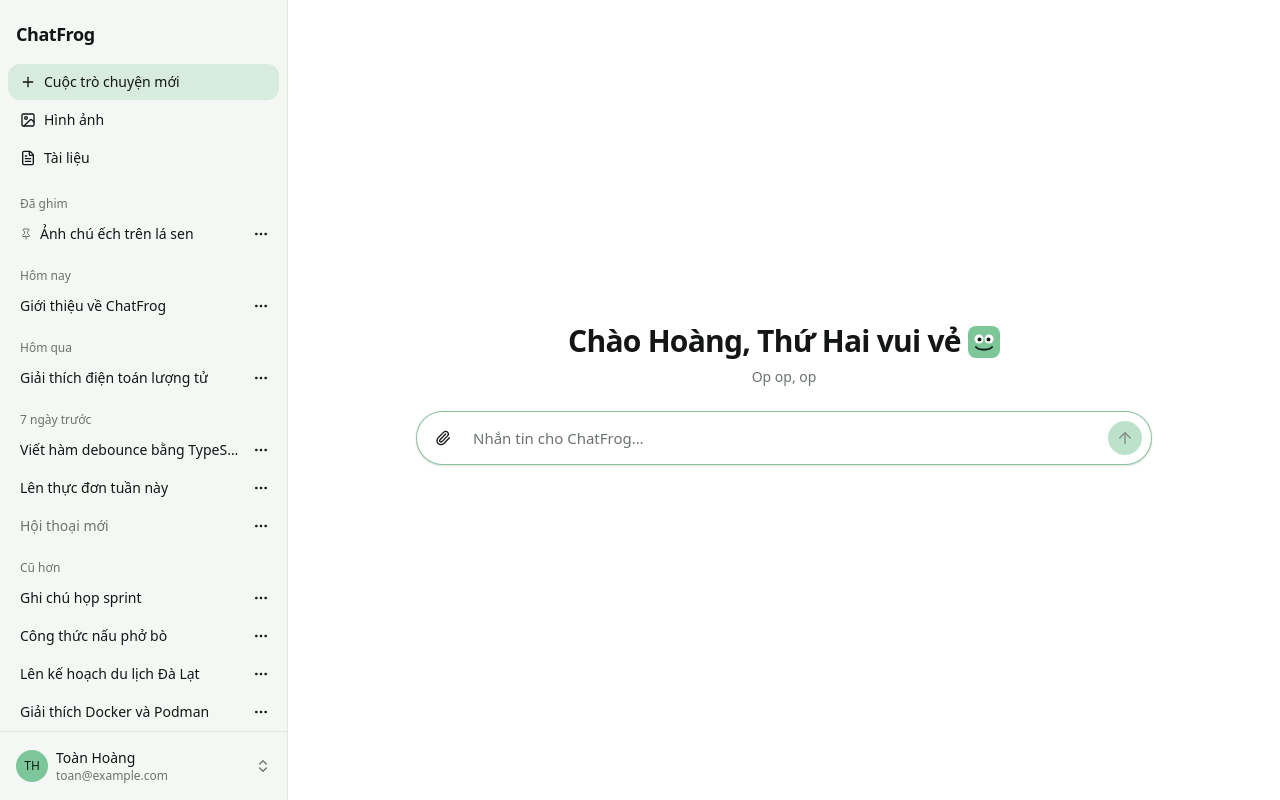
Test: sidebar › renames a conversation inline and deletes it after confirmation
Expected: the link "Giới thiệu về ChatFrog" is shown, [20,296,166,315]
Step 1. Click the button named "Tuỳ chọn hội thoại: Giới thiệu về ChatFrog" → click(261, 306), box [247,292,275,320]
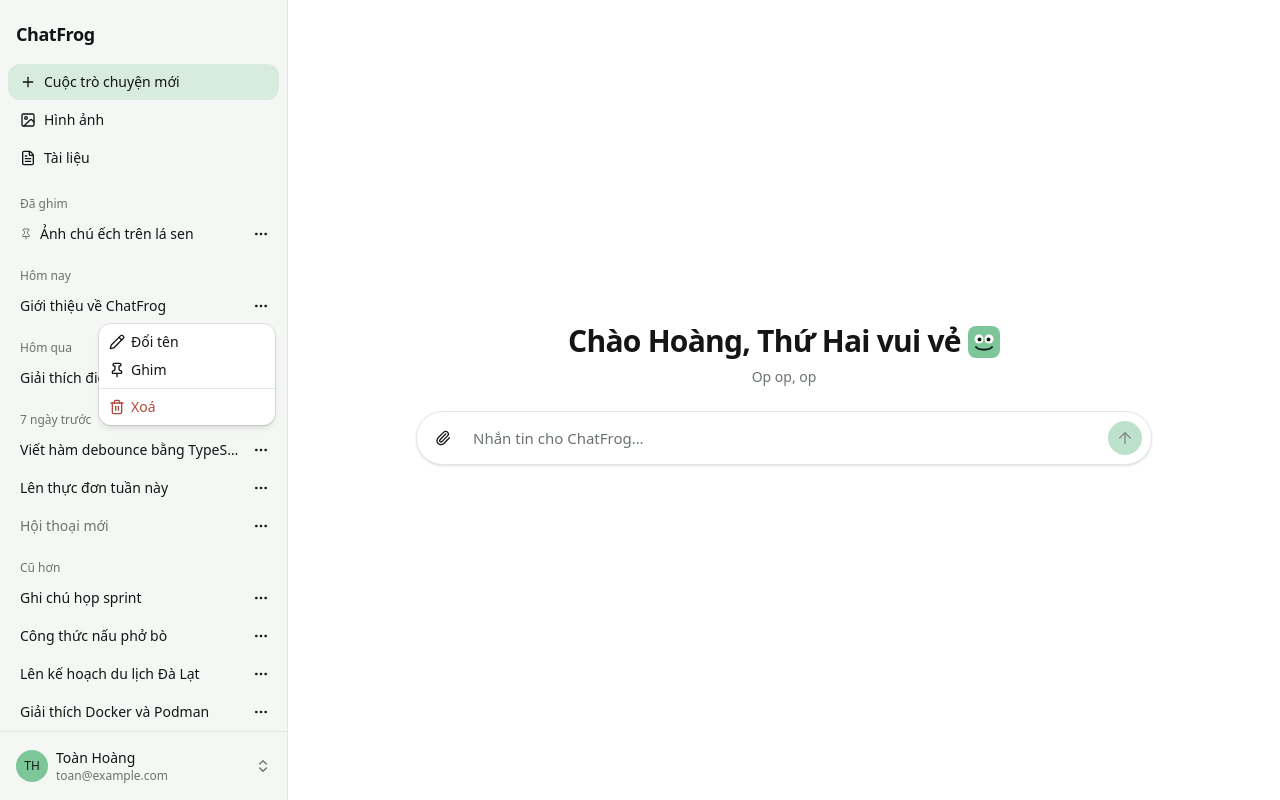
Step 2. Click the menu item "Đổi tên" → click(144, 342), box [109,332,178,351]
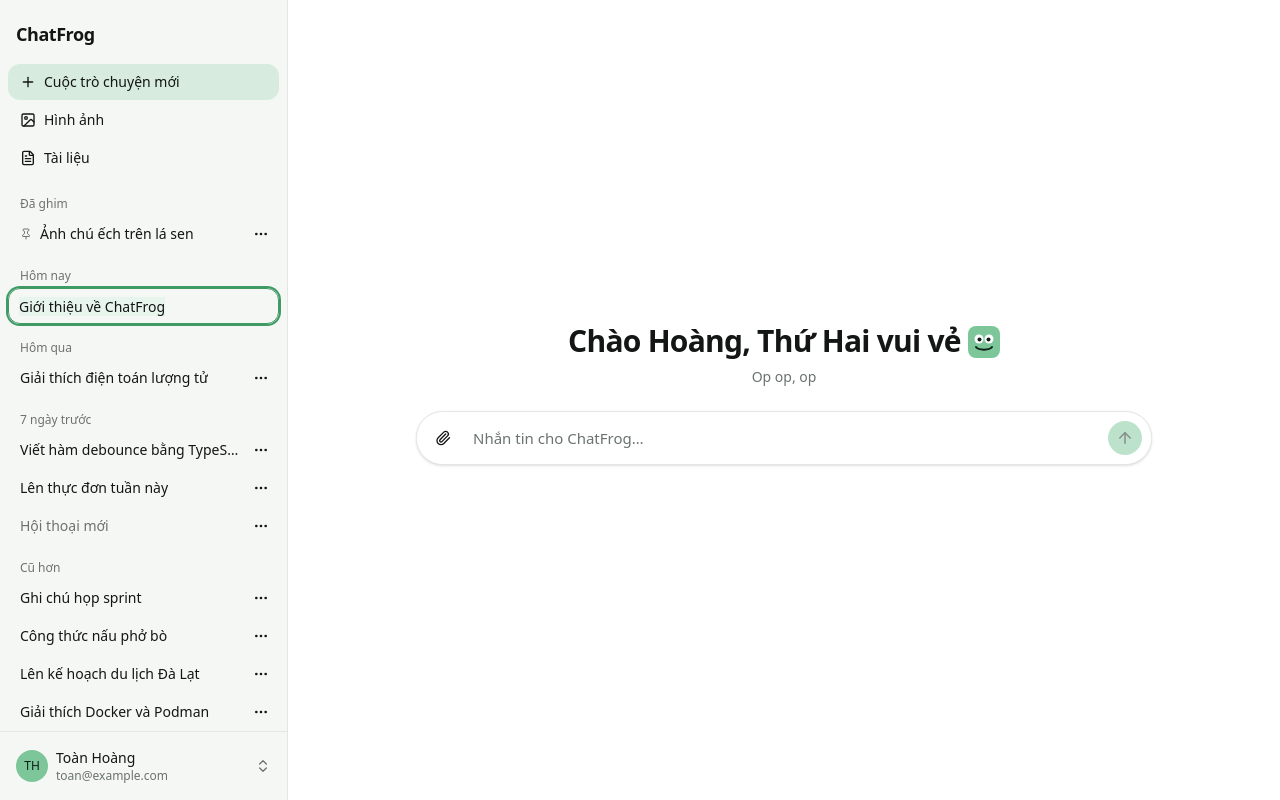
Step 3. Replace the text in the field named "Tên hội thoại" with "Tên mới" → (144, 306), box [8,288,279,324]
Then press Enter
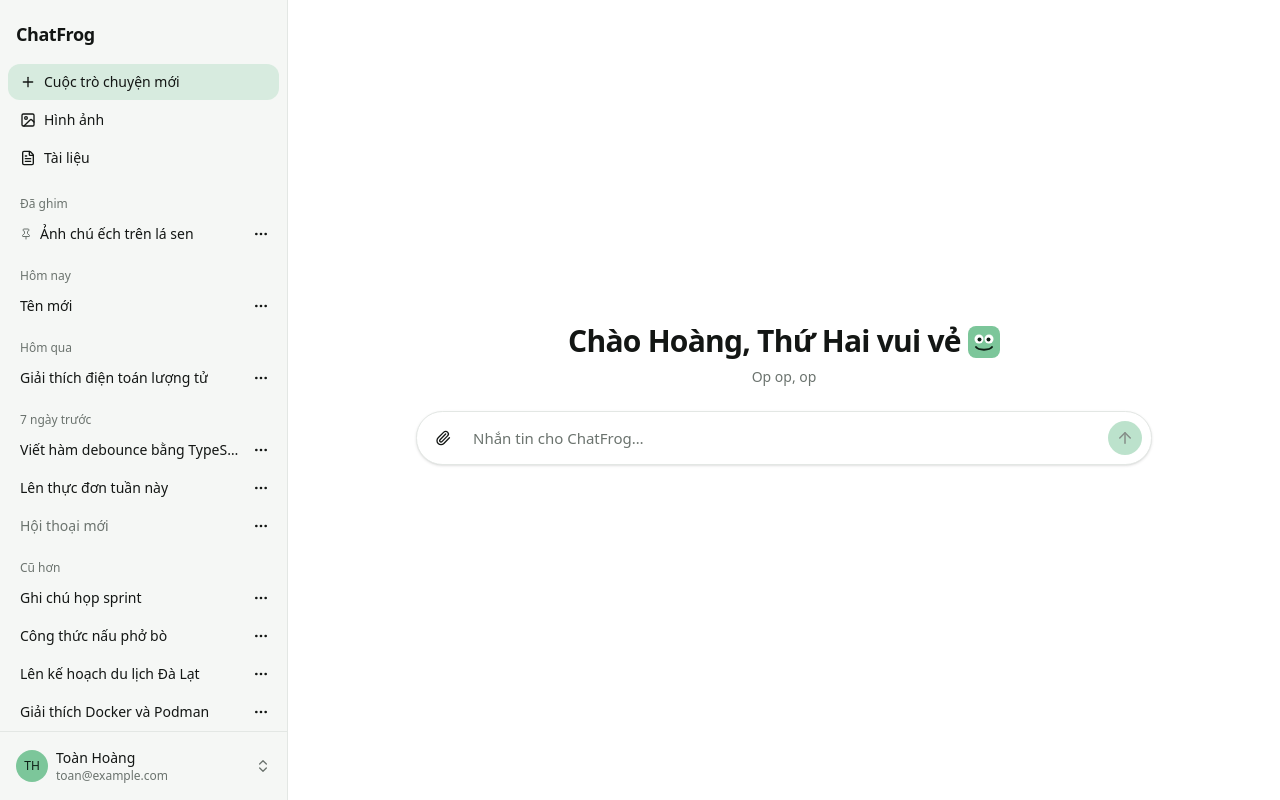
Expected: the link "Tên mới" is shown, [20,296,72,315]
Step 4. Click the button named "Tuỳ chọn hội thoại: Tên mới" → click(261, 306), box [247,292,275,320]
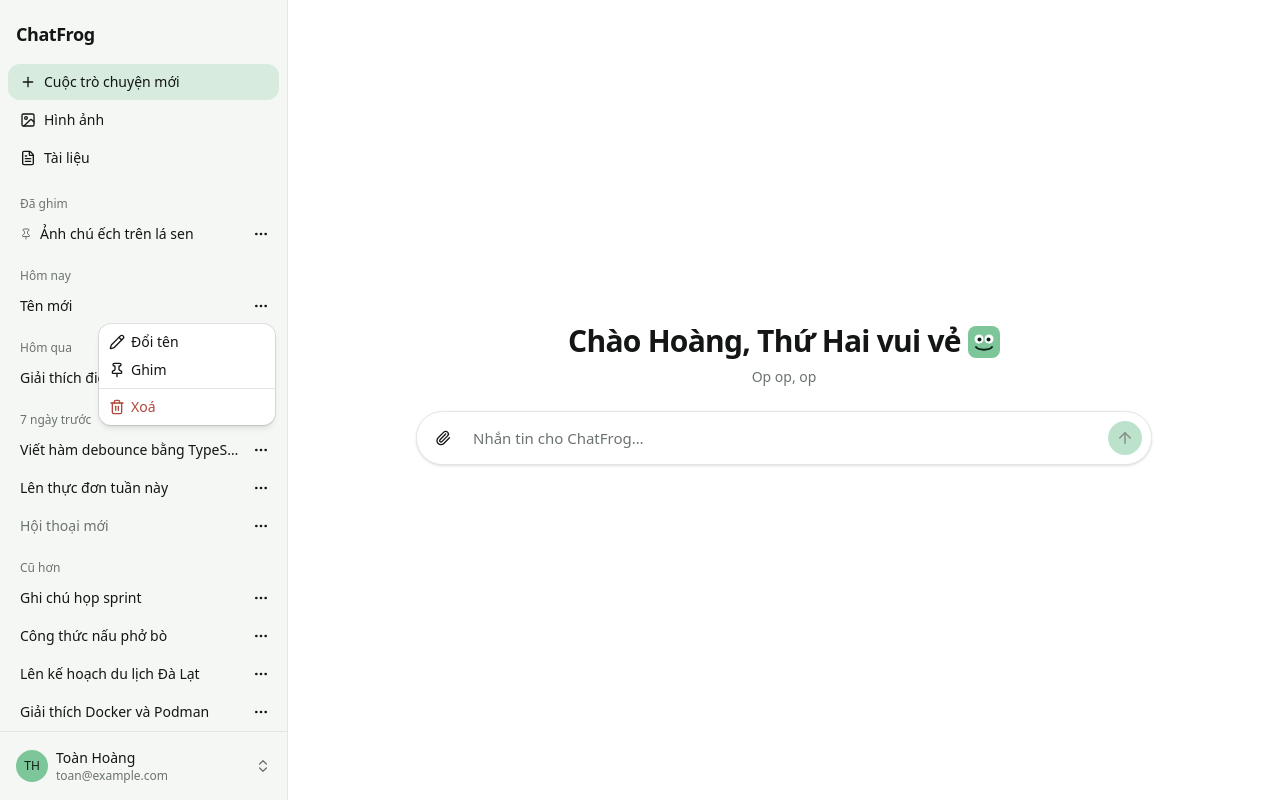
Step 5. Click the menu item "Xoá" → click(132, 406), box [109,397,156,416]
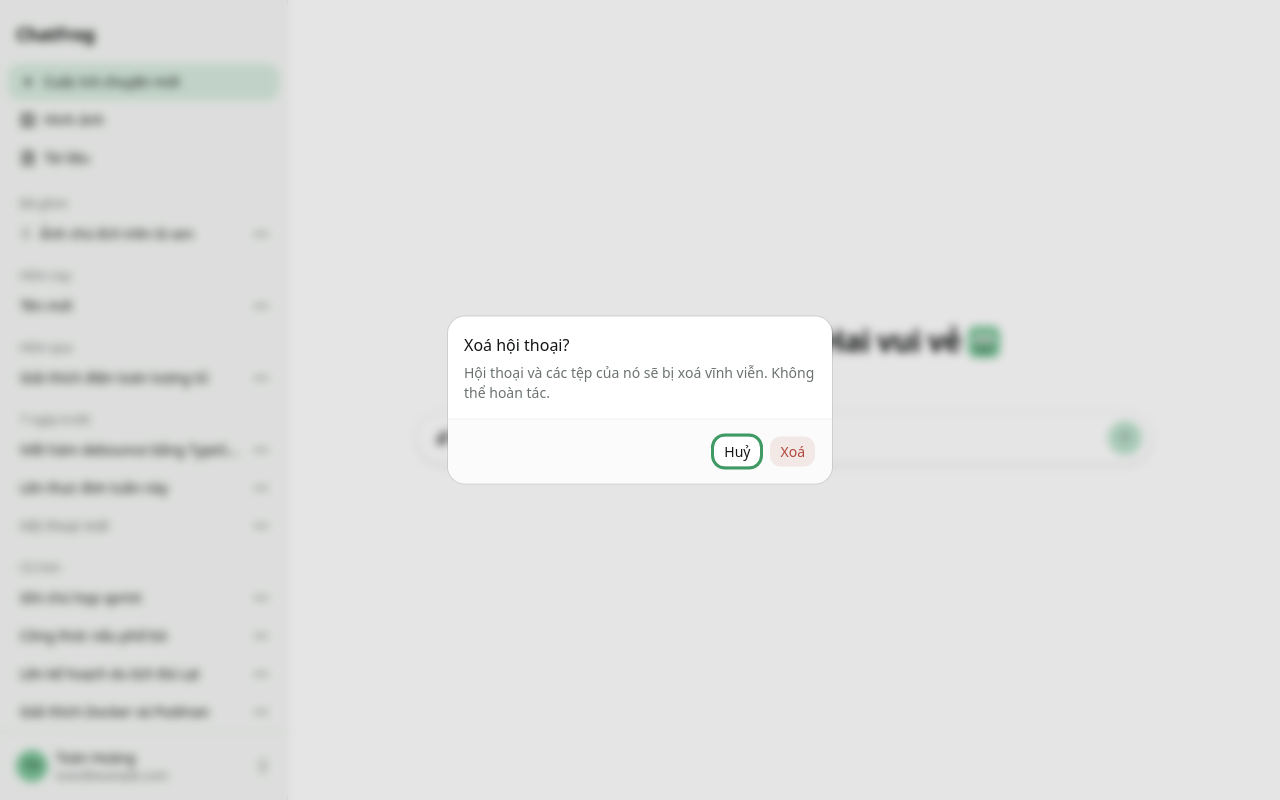
Step 6. Click the button "Xoá" → click(793, 452), box [770,436,816,468]
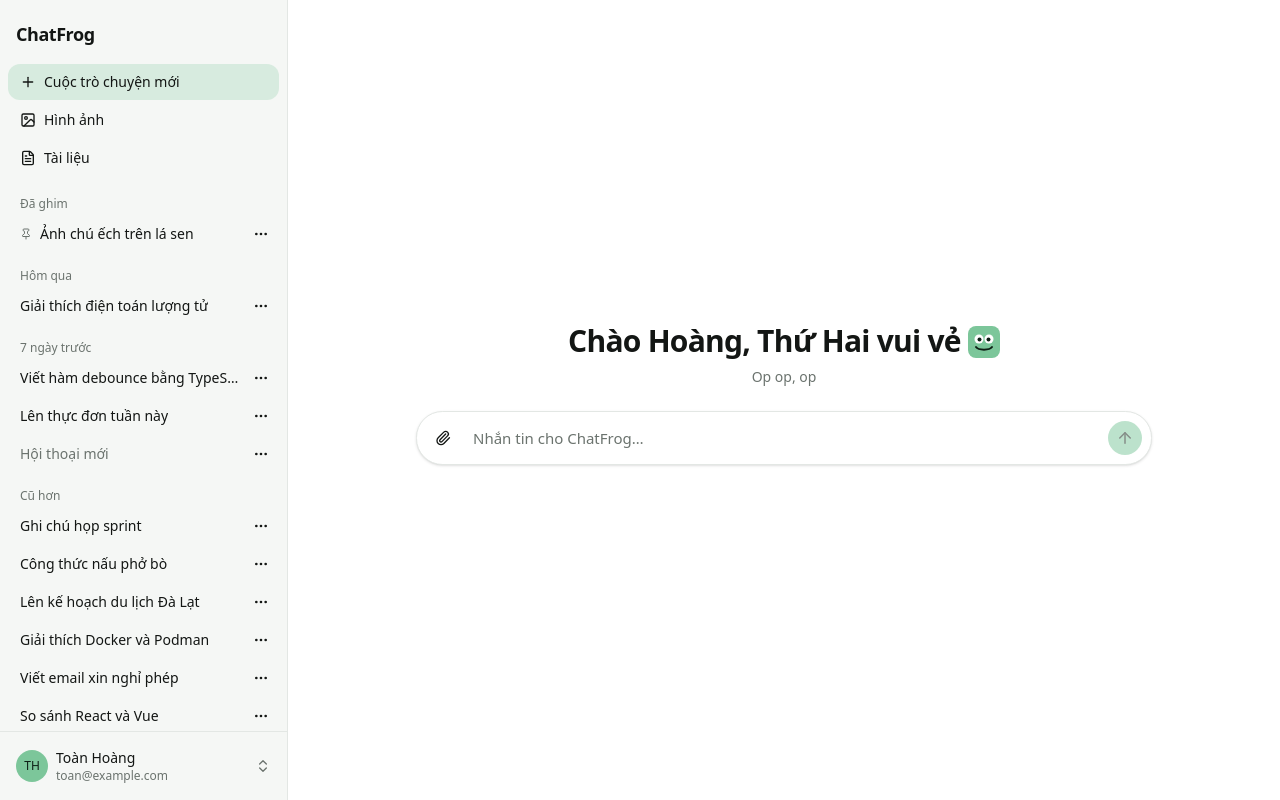
Expected: the link "Tên mới" is gone
